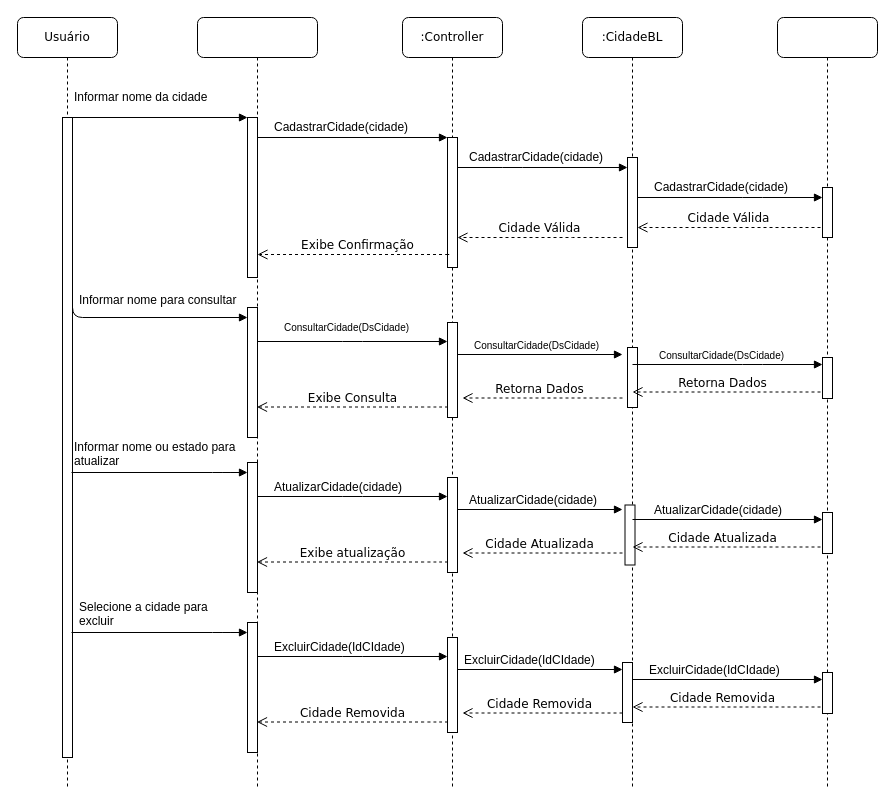
This 895x805 diagram has some shape labels left out. Each missing label, with the centre of its shape:
:CidadeDAO: (827,402)
:frmManterCidades: (257,402)
